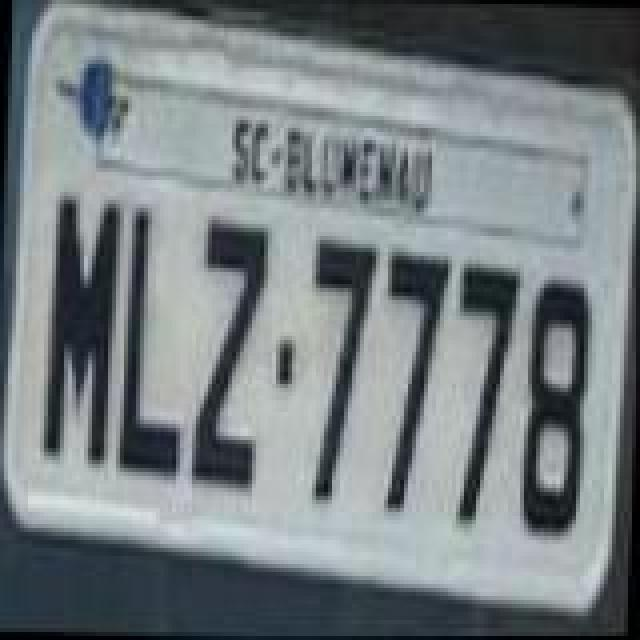7: (376, 240, 448, 516), (304, 230, 376, 502), (448, 260, 520, 532)
8: (520, 270, 592, 538)
L: (114, 202, 186, 482)
M: (40, 190, 116, 466)
Z: (190, 214, 266, 494)
